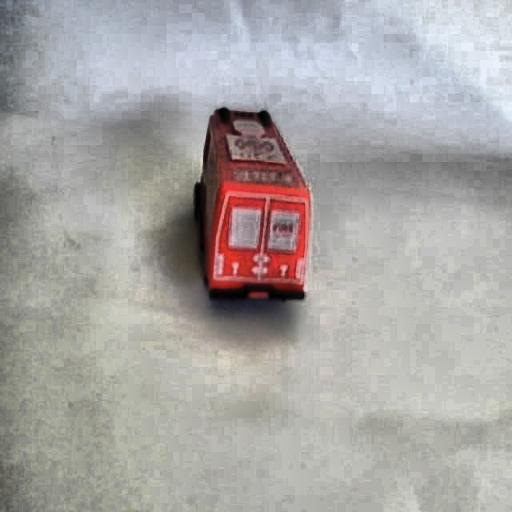fire_truck: (196, 111, 313, 313)
